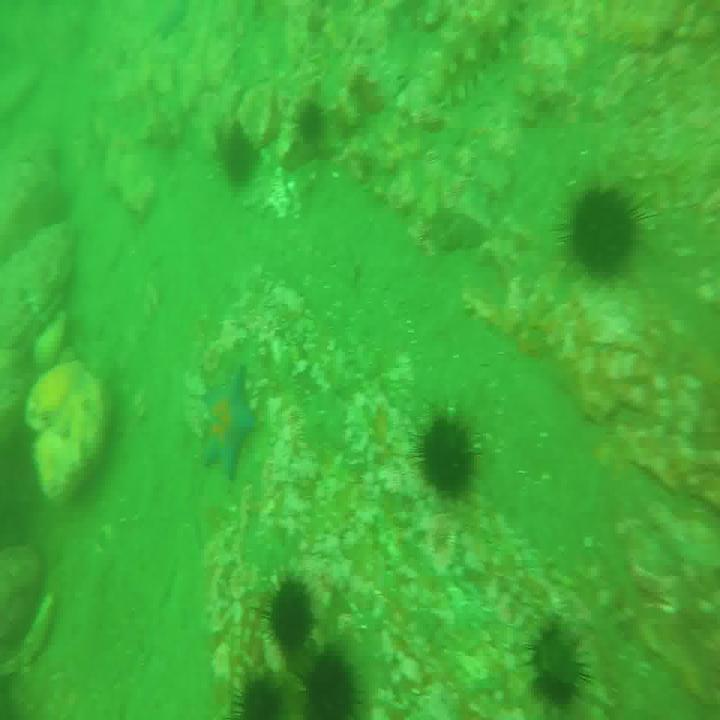echinus: (570, 184, 639, 276), (419, 415, 478, 498), (529, 621, 584, 705), (300, 646, 362, 720), (264, 574, 310, 654), (231, 671, 283, 720), (225, 128, 255, 178), (302, 103, 326, 141)
holothurian: (439, 0, 523, 105)
starfish: (198, 372, 252, 476)
